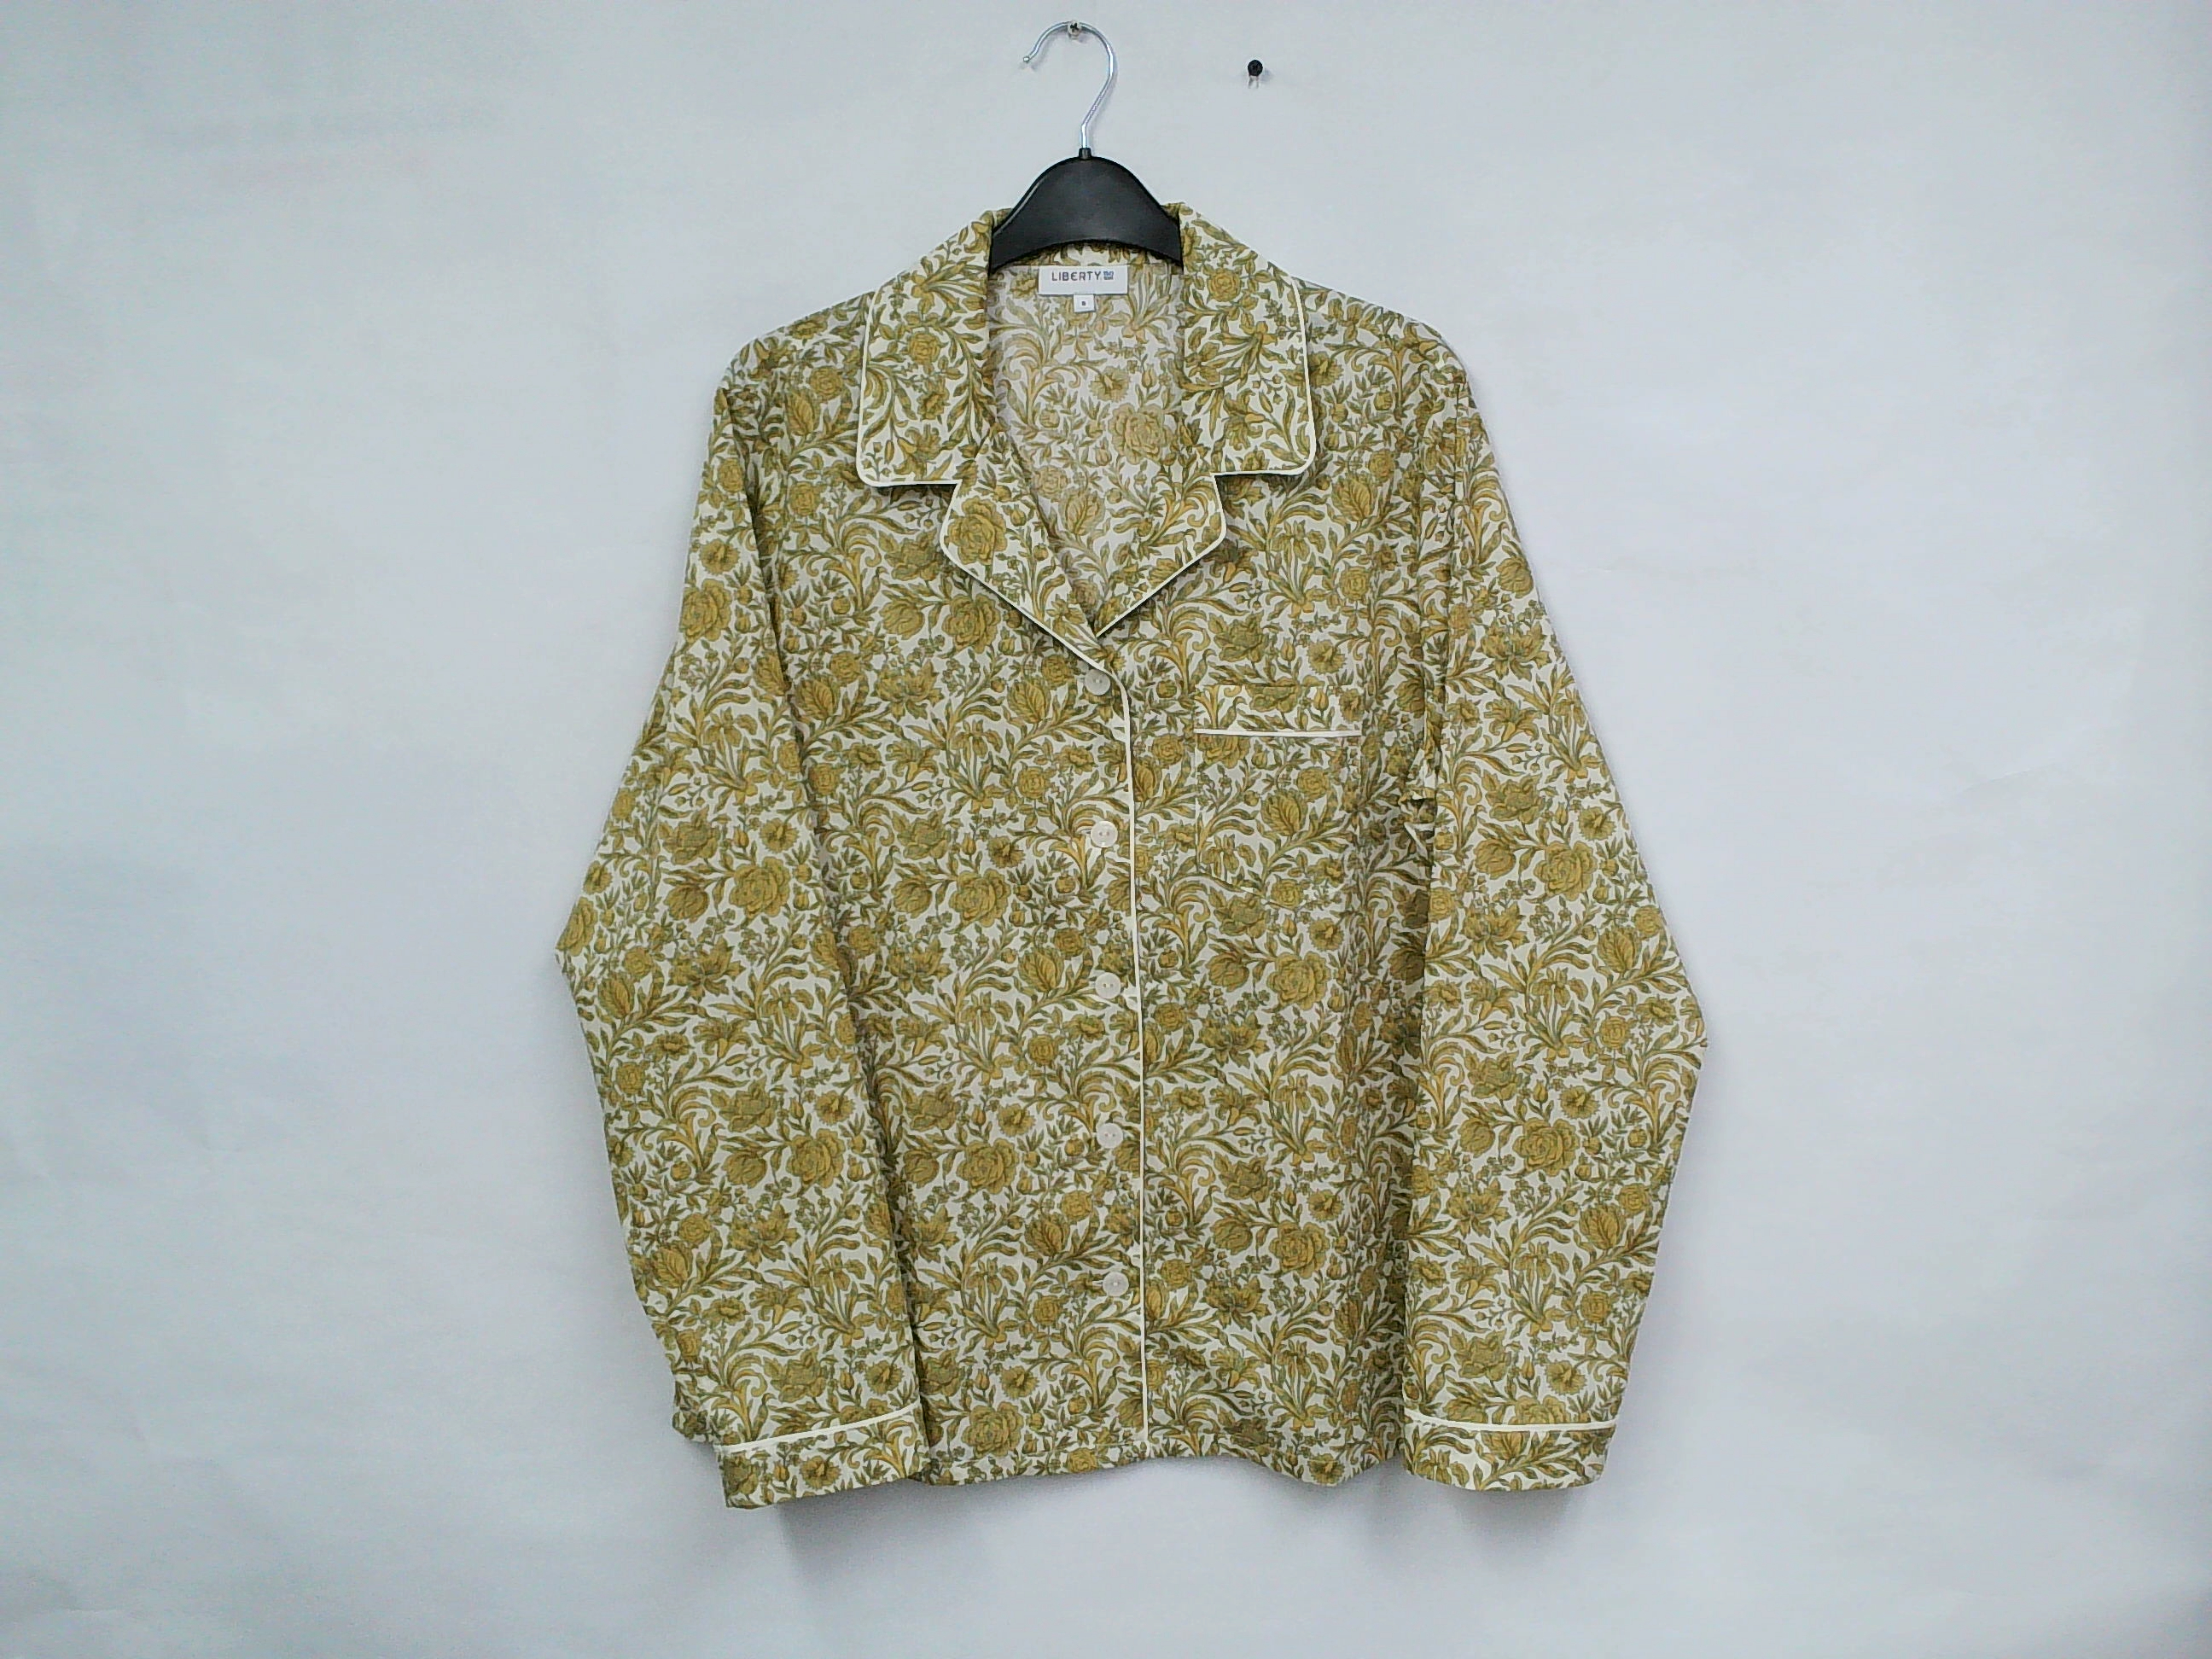seam: (705, 1425, 822, 1476)
